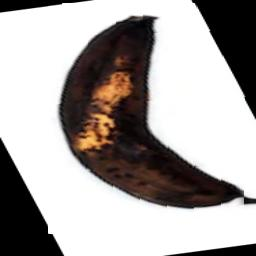Banana Rotten: (49, 3, 248, 234)
